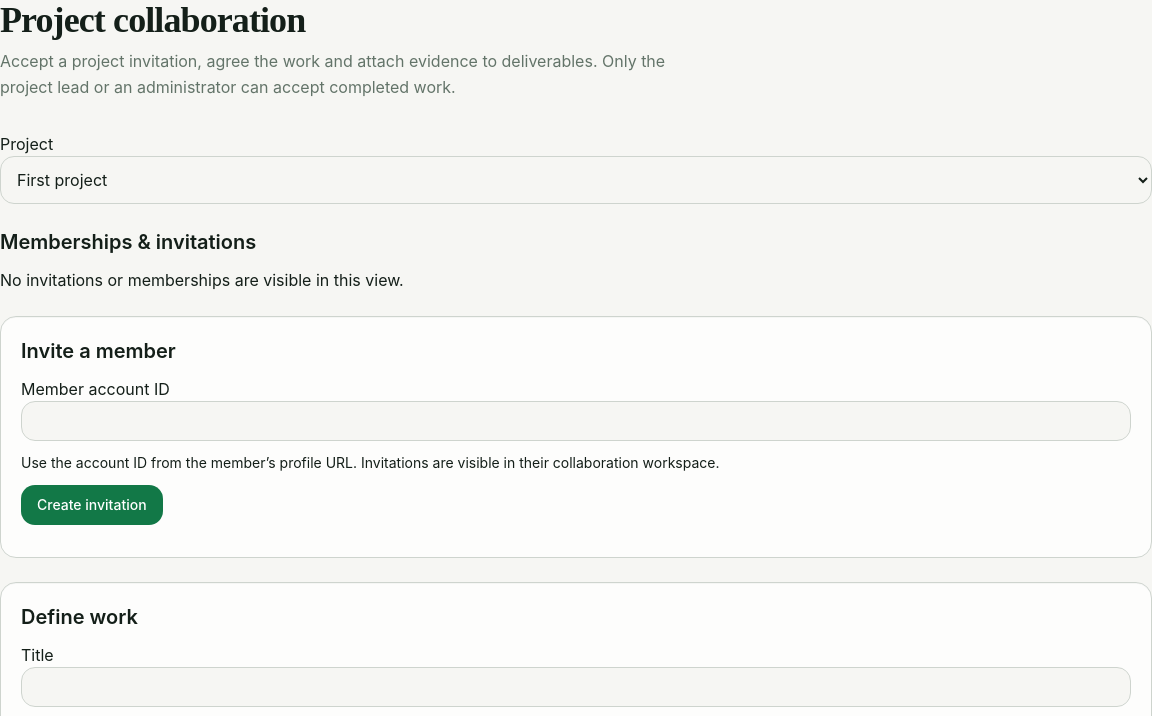
Scenario: collaboration invitation feedback › preserves a newer member draft while naming the invitation that was confirmed
This screenshot has width=1152, height=716.
Step 1. Type "10000000-0000-4000-8000-000000000092" into the field labelled "Member account ID" → (576, 421), box [21,401,1131,441]
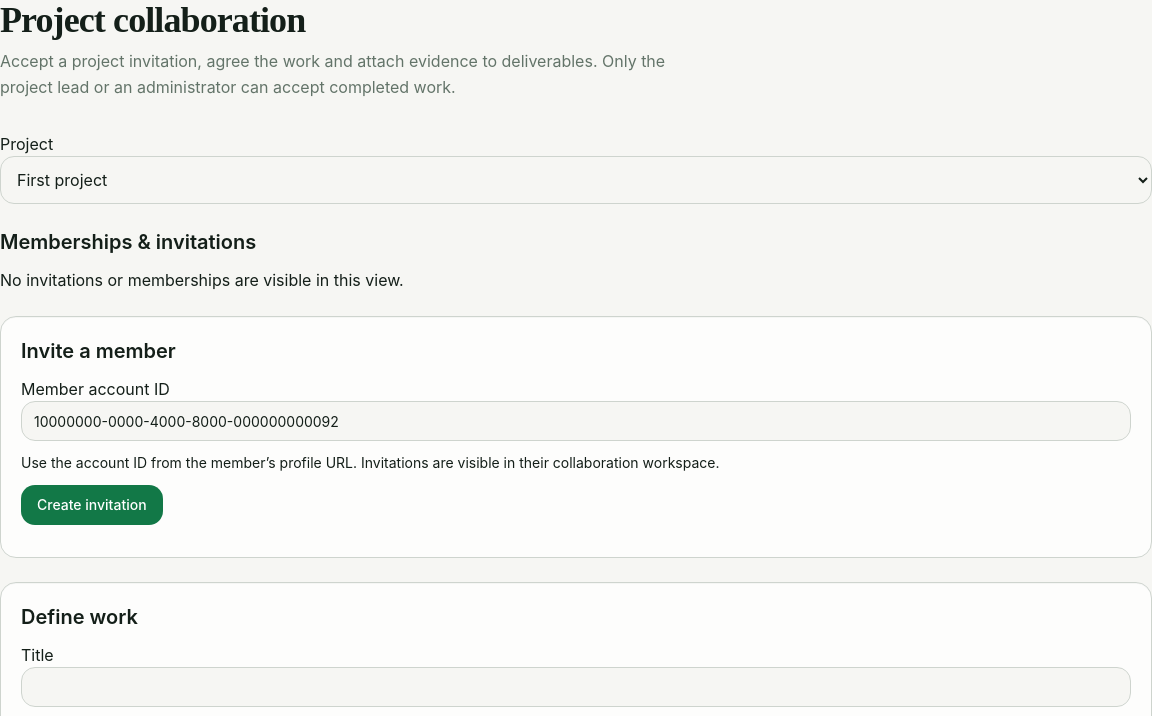
Step 2. Click the button "Create invitation" → (92, 505), box [21,485,163,525]
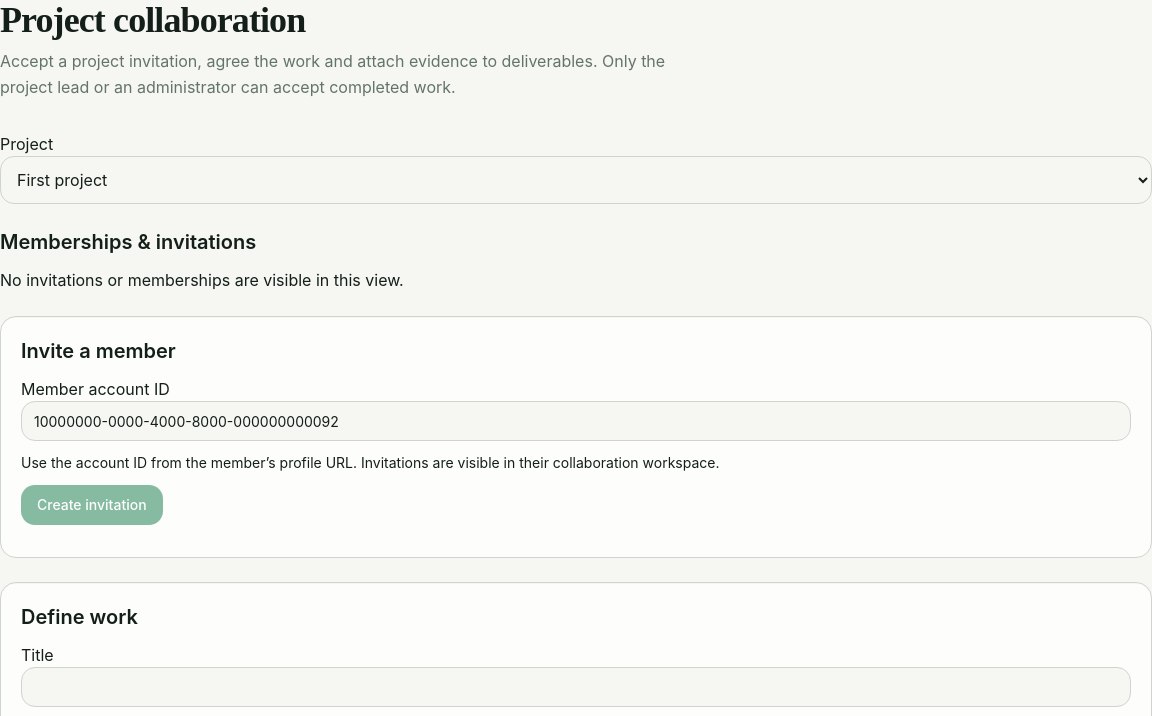
Step 3. Replace the text in the field labelled "Member account ID" with "10000000-0000-4000-8000-000000000093" → (576, 421), box [21,401,1131,441]
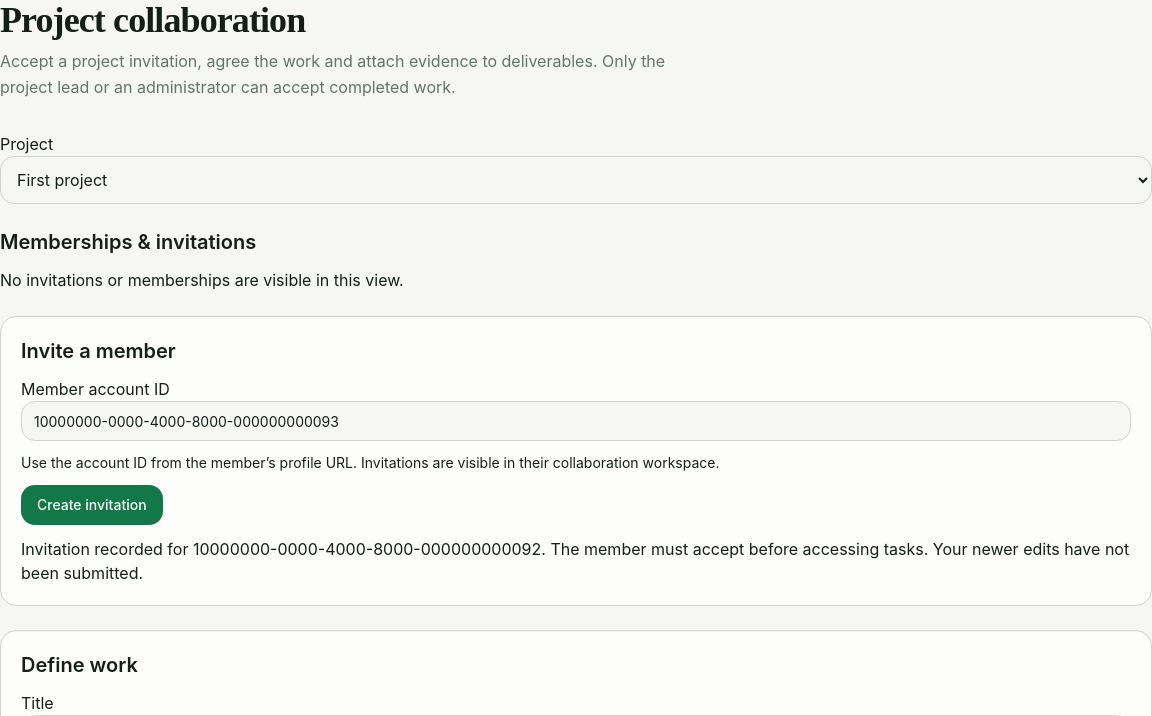
Check: the text "Invitation recorded" shows "10000000-0000-4000-8000-000000000092", box [21,539,1129,583]
Check: the text "Invitation recorded" shows "Your newer edits have not been submitted.", box [21,539,1129,583]
